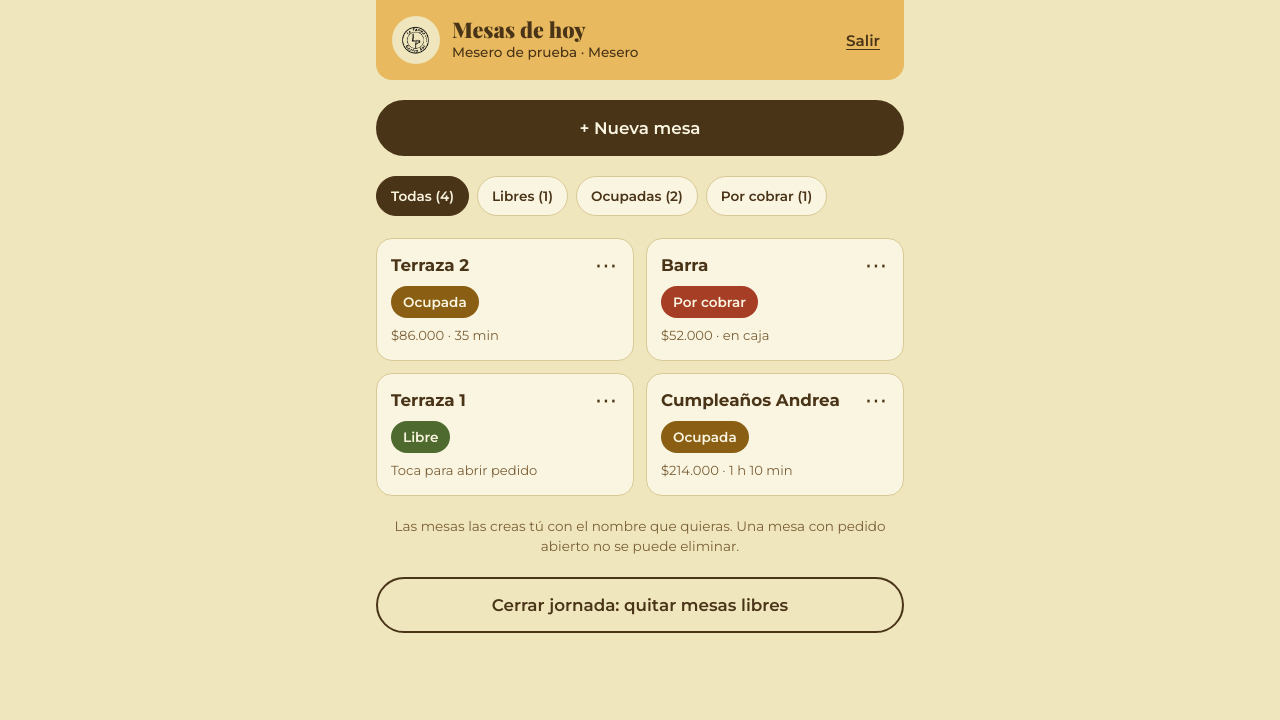
Test case: Mesas de hoy (HU03) › una mesa con pedido abierto no ofrece renombrar ni eliminar
Expected: the text "Terraza 1" is shown, [391,388,466,413]
Click the button named "Opciones de Terraza 2" at (606, 266), box [584,244,628,288]
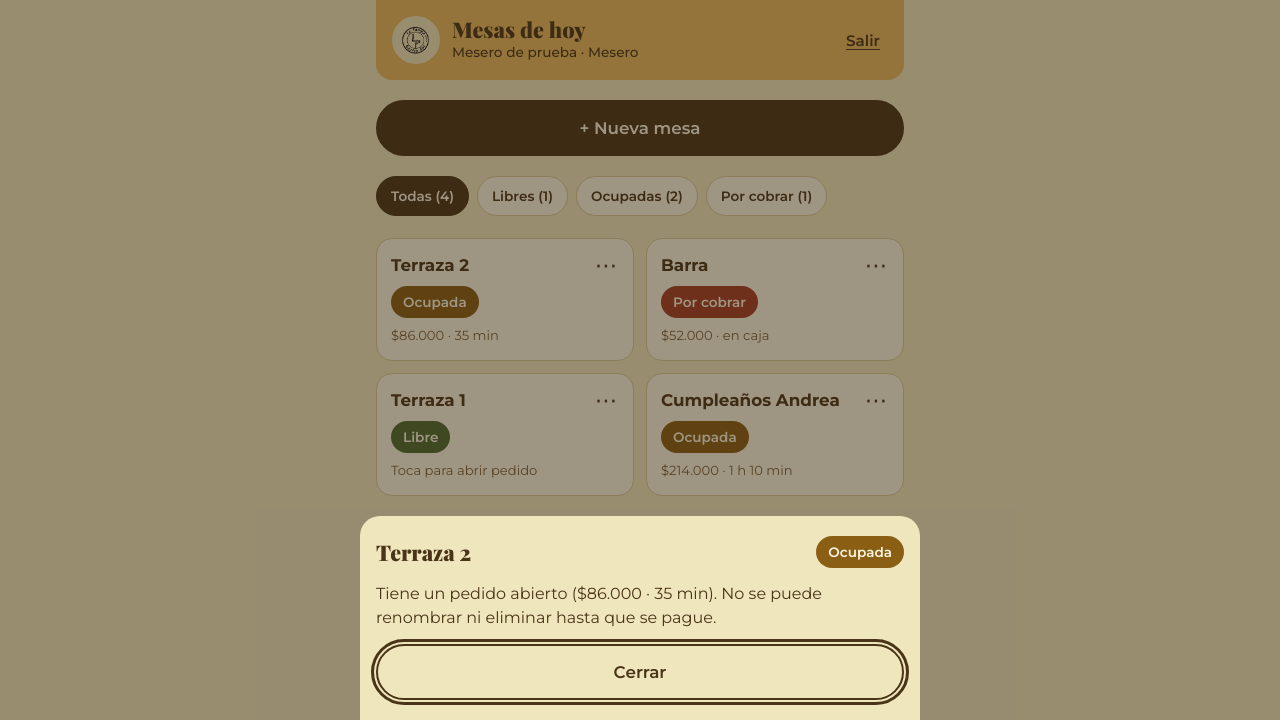
Now the text "Tiene un pedido abierto" is shown, box [376,584,577,603]
Press Escape
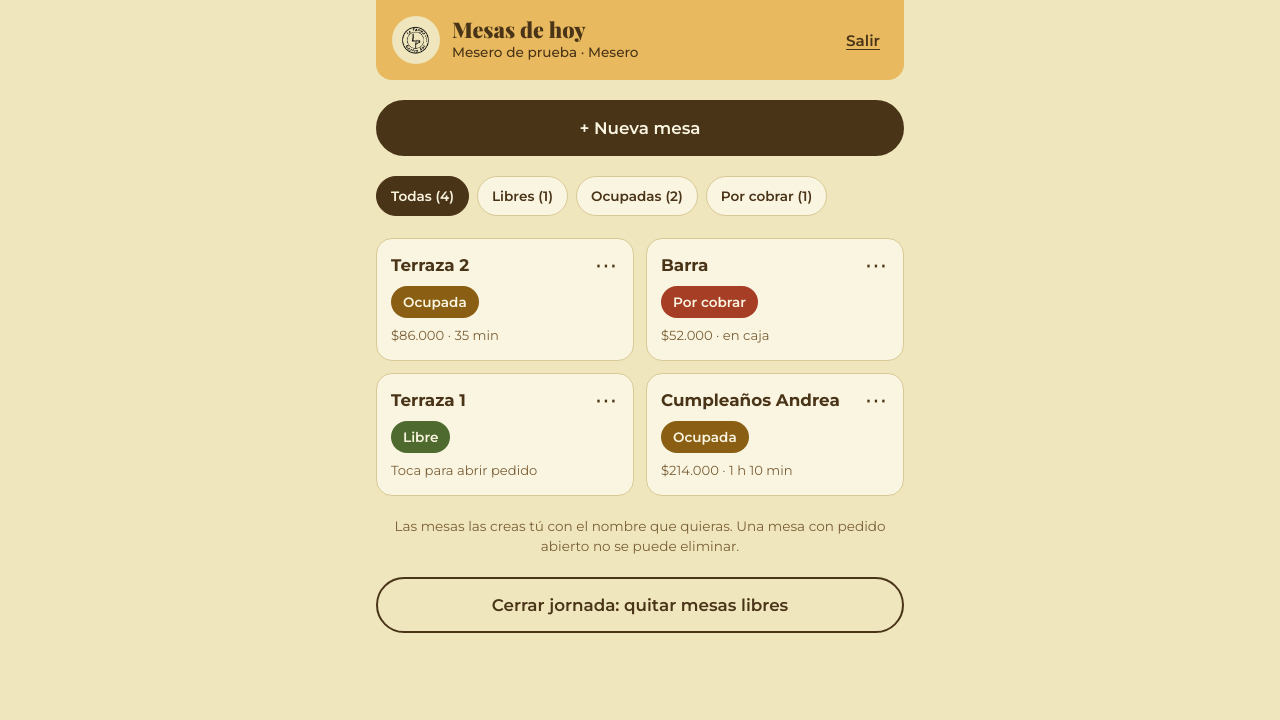
Now the dialog is gone
